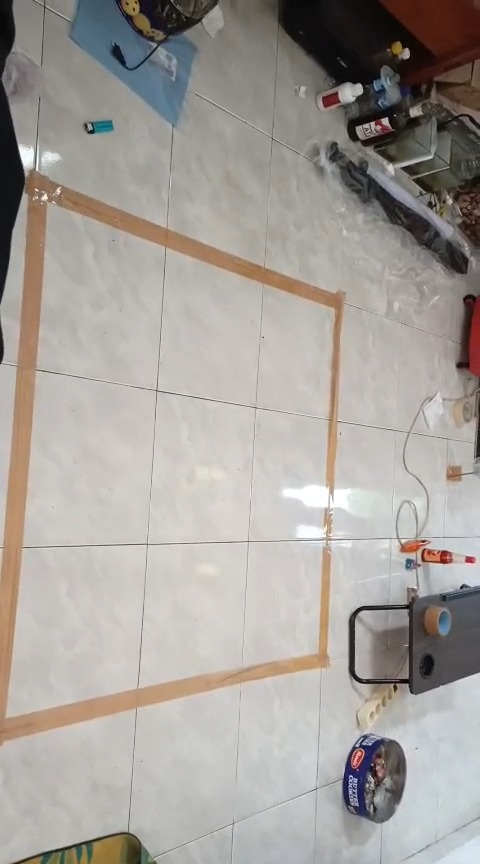floor marking: (0, 171, 342, 743)
